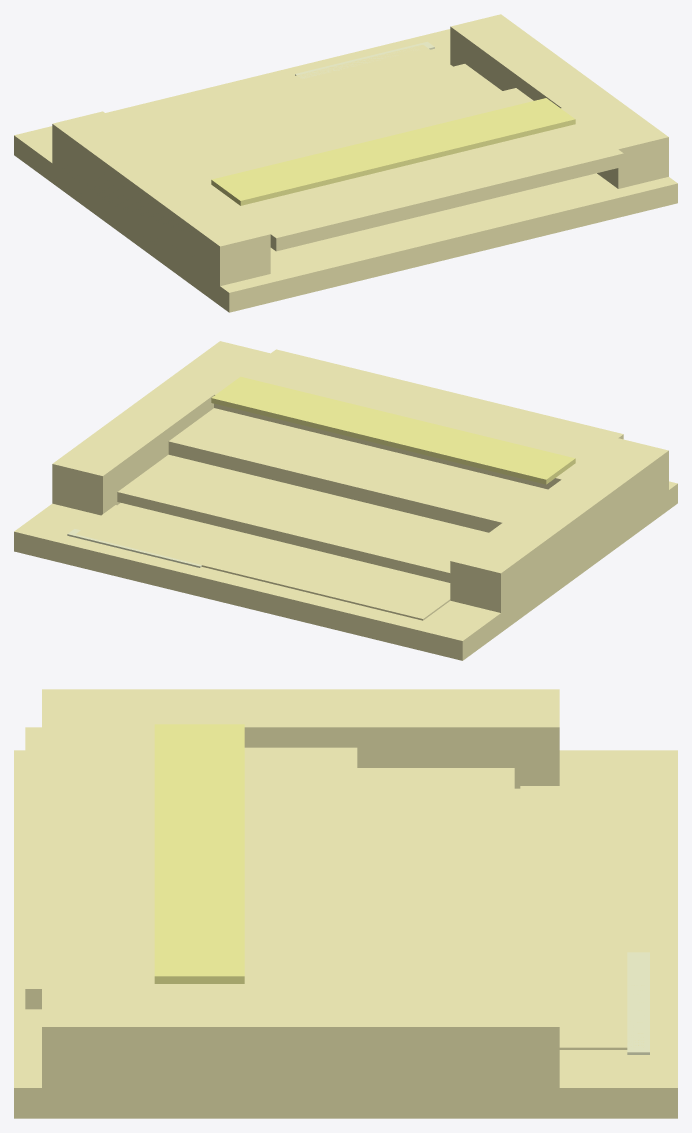
File: furniture_curb_ramp_module.glb
3 views of the same model, one above another, from view 1: azimuth 30°, elevation 25°; view 2: azimuth 150°, elevation 25°; view 3: azimuth 270°, elevation 25° (orthographic). The views are drawn at different scales.
Visible parts, largest first — view 1: base, landing, curb_left, curb_right, ramp_mid, tactile_strip, ramp_lower, ramp_upper, drain_slot; view 2: base, ramp_mid, ramp_upper, curb_left, landing, ramp_lower, curb_right, tactile_strip, drain_slot; view 3: curb_right, base, ramp_mid, landing, curb_left, ramp_lower, ramp_upper, tactile_strip, drain_slot.
Part boxes in pixels (left/top/right/bottom): base: left=14, top=29, right=677, bottom=312; landing: left=214, top=108, right=623, bottom=251; curb_left: left=52, top=111, right=270, bottom=304; curb_right: left=450, top=14, right=668, bottom=188; ramp_mid: left=145, top=64, right=502, bottom=169; tactile_strip: left=211, top=98, right=575, bottom=205; ramp_lower: left=115, top=45, right=452, bottom=141; ramp_upper: left=182, top=88, right=533, bottom=192; drain_slot: left=295, top=41, right=434, bottom=78; base: left=14, top=481, right=677, bottom=660; ramp_mid: left=117, top=454, right=488, bottom=582; ramp_upper: left=168, top=408, right=547, bottom=532; curb_left: left=450, top=438, right=668, bottom=618; landing: left=214, top=349, right=623, bottom=489; ramp_lower: left=76, top=505, right=450, bottom=620; curb_right: left=52, top=341, right=270, bottom=515; tactile_strip: left=211, top=376, right=575, bottom=484; drain_slot: left=67, top=529, right=201, bottom=567; curb_right: left=42, top=989, right=559, bottom=1118; base: left=14, top=750, right=677, bottom=1118; ramp_mid: left=357, top=768, right=514, bottom=988; landing: left=25, top=727, right=216, bottom=1009; curb_left: left=42, top=689, right=559, bottom=788; ramp_lower: left=520, top=786, right=644, bottom=1049; ramp_upper: left=216, top=747, right=357, bottom=988; tactile_strip: left=154, top=724, right=244, bottom=983; drain_slot: left=627, top=952, right=649, bottom=1054.
Size of the model in its own units: 1.42 by 0.195 by 1.18.
